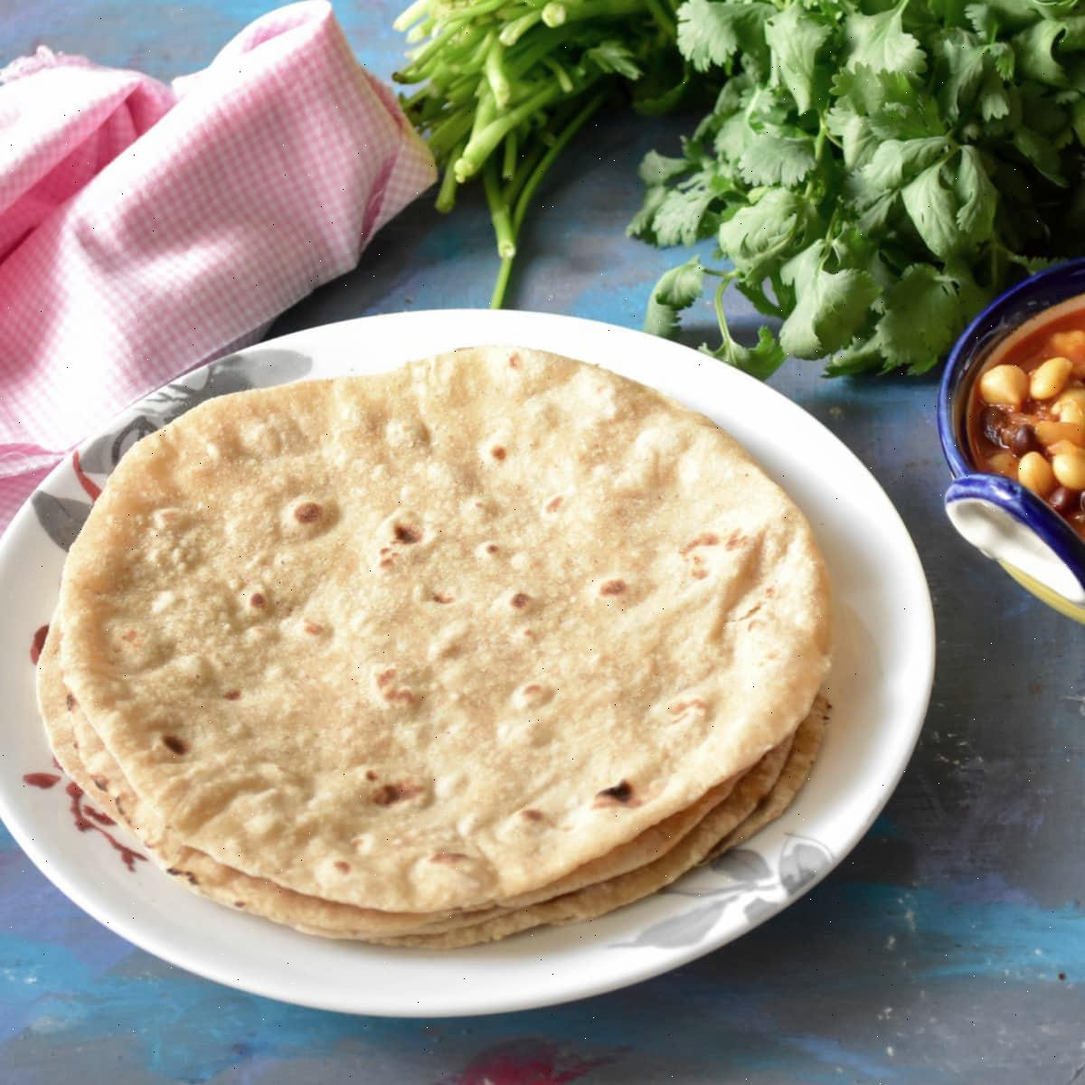roti phulka: (41, 344, 835, 949)
